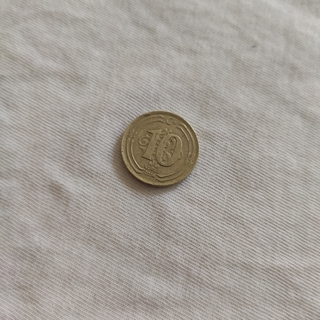10KURUS: (119, 107, 201, 190)
